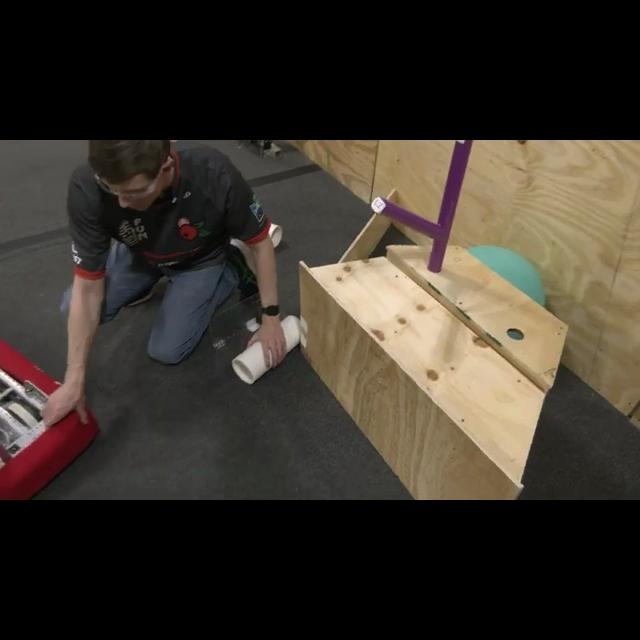CORAL: (230, 312, 302, 383)
